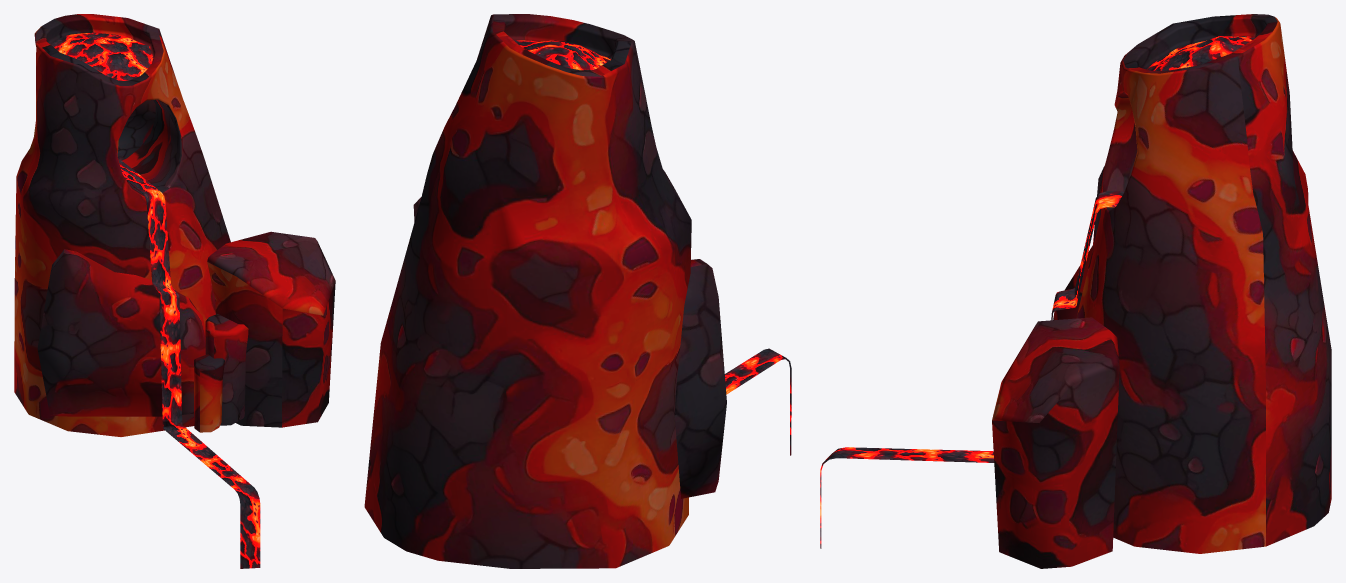
File: Lava_Rock_01.gltf
The picture shows the model from 3 angles, left to right: view 1: azimuth 30°, elevation 25°; view 2: azimuth 150°, elevation 25°; view 3: azimuth 270°, elevation 25°; orthographic projection. The views are drawn at different scales.
Parts seen in each view (by area): view 1: Lava_Rock_01(Clone); view 2: Lava_Rock_01(Clone); view 3: Lava_Rock_01(Clone).
Boxes of the visible parts, x1,y1,x2,y2 form: Lava_Rock_01(Clone): [14, 14, 335, 568]; Lava_Rock_01(Clone): [364, 14, 791, 568]; Lava_Rock_01(Clone): [820, 14, 1331, 568].
Size of the model in its own units: 1.93 by 3 by 2.69.
3 materials, 3 textured.
